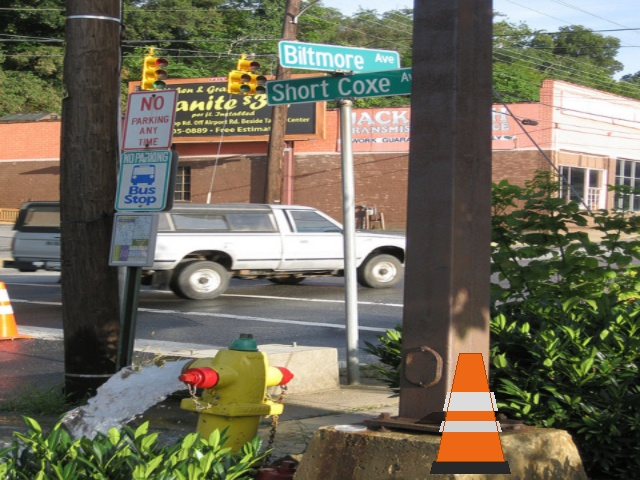traffic-cone: (430, 353, 510, 473)
